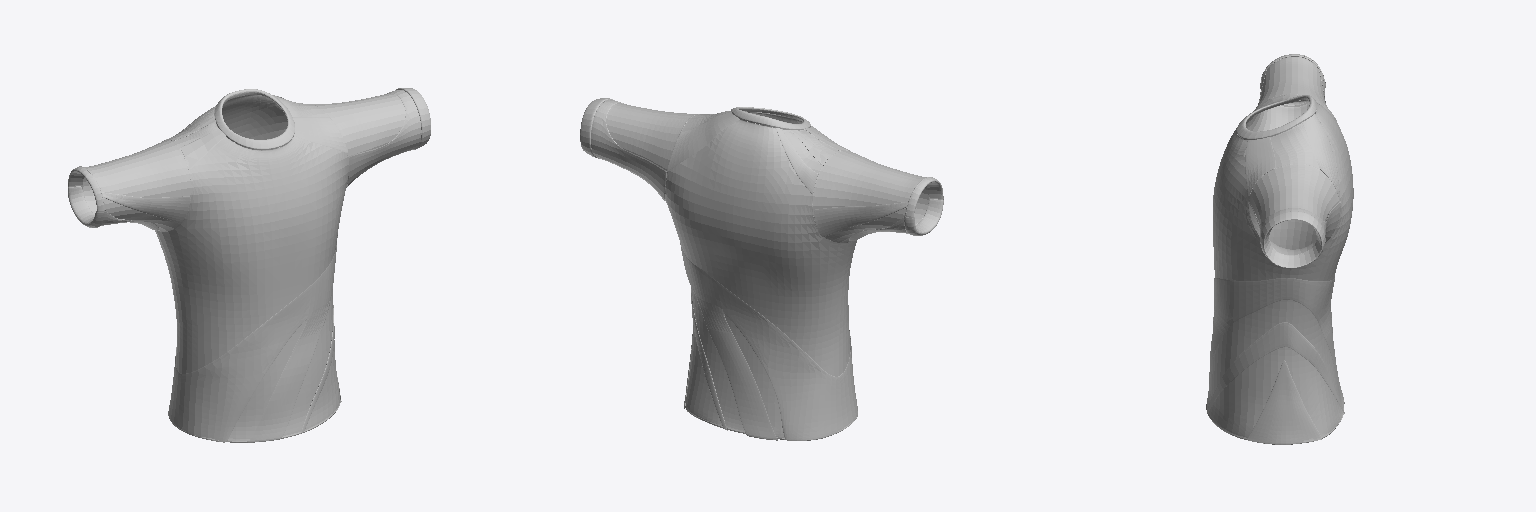
File: yellowtshirt.obj
The picture shows the model from 3 angles: view 1: azimuth 30°, elevation 25°; view 2: azimuth 150°, elevation 25°; view 3: azimuth 270°, elevation 25°; orthographic projection.
Parts seen in each view (by area): view 1: Box001; view 2: Box001; view 3: Box001.
Boxes of the visible parts, x1,y1,x2,y2 form: Box001: [68, 88, 430, 442]; Box001: [580, 98, 943, 440]; Box001: [1206, 54, 1353, 444].
Bounding box in the file's own units: 3.61 × 3.15 × 1.37.